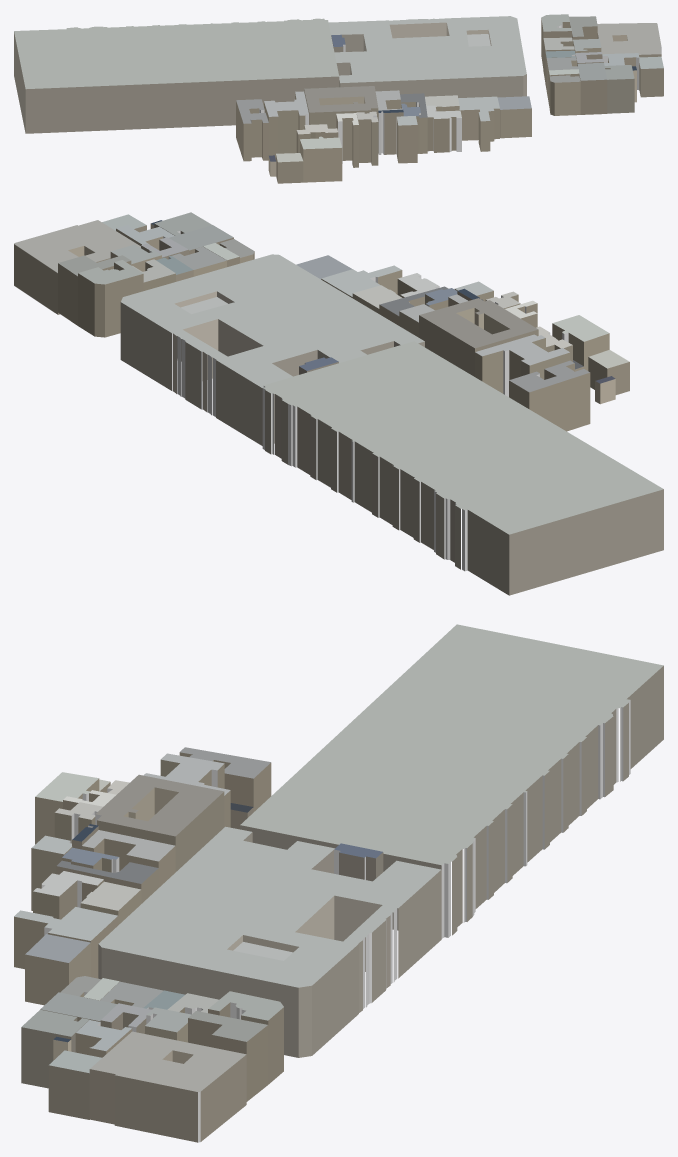
The picture shows the model from 3 angles, top to bottom: view 1: azimuth 30°, elevation 25°; view 2: azimuth 150°, elevation 25°; view 3: azimuth 270°, elevation 25°; orthographic projection. The views are drawn at different scales.
Visible parts, largest first — view 1: tuile; view 2: tuile; view 3: tuile.
Part boxes in pixels (<box>): tuile: <box>14,14,663,183</box>; tuile: <box>14,212,663,595</box>; tuile: <box>14,624,663,1142</box>.
Bounding box in the file's own units: 352 × 28.62 × 216.
